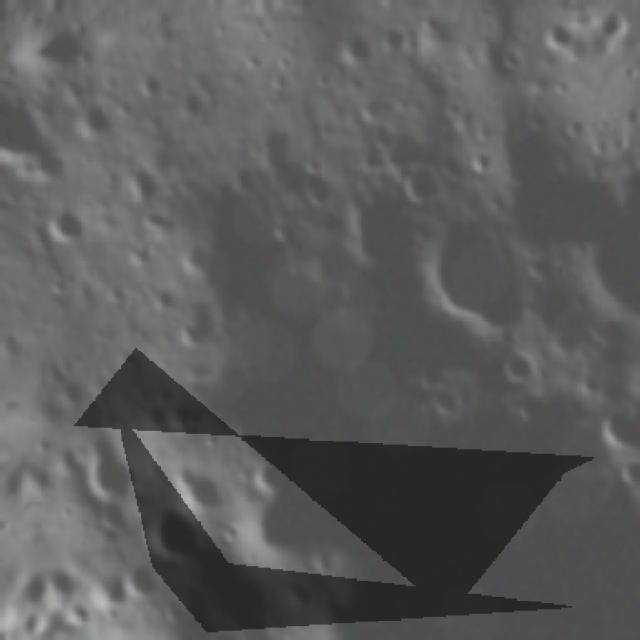crater: (408, 202, 548, 344), (0, 80, 74, 202), (68, 428, 144, 504), (136, 504, 210, 562), (16, 38, 109, 76), (174, 462, 226, 510), (120, 156, 166, 210), (326, 26, 377, 71), (170, 232, 221, 277), (492, 343, 543, 388), (71, 96, 118, 144), (37, 206, 91, 246), (592, 409, 640, 454), (58, 592, 104, 637), (535, 8, 579, 55), (395, 156, 439, 202), (140, 273, 182, 315), (168, 395, 210, 436), (132, 63, 174, 102), (122, 560, 164, 598), (153, 594, 198, 628), (170, 310, 208, 350), (118, 236, 158, 272), (551, 314, 586, 354), (424, 388, 470, 418), (222, 164, 262, 198), (300, 168, 332, 209), (92, 496, 128, 532), (52, 372, 90, 406), (45, 566, 78, 602), (375, 24, 411, 56), (307, 543, 339, 579), (408, 362, 448, 390), (353, 93, 387, 125), (611, 456, 640, 492), (496, 42, 530, 72), (466, 146, 494, 179), (0, 328, 25, 364), (175, 89, 208, 116), (264, 214, 294, 243), (31, 430, 57, 461), (470, 117, 496, 145), (46, 271, 74, 297), (282, 255, 308, 283), (576, 370, 604, 396), (249, 22, 280, 44), (51, 497, 77, 523), (237, 46, 261, 72), (308, 68, 334, 92), (548, 73, 572, 98), (441, 95, 465, 120), (561, 115, 587, 138), (197, 627, 242, 640), (272, 48, 294, 70), (371, 0, 411, 12), (587, 137, 608, 157), (424, 58, 445, 77), (558, 0, 582, 8), (99, 638, 132, 640)
